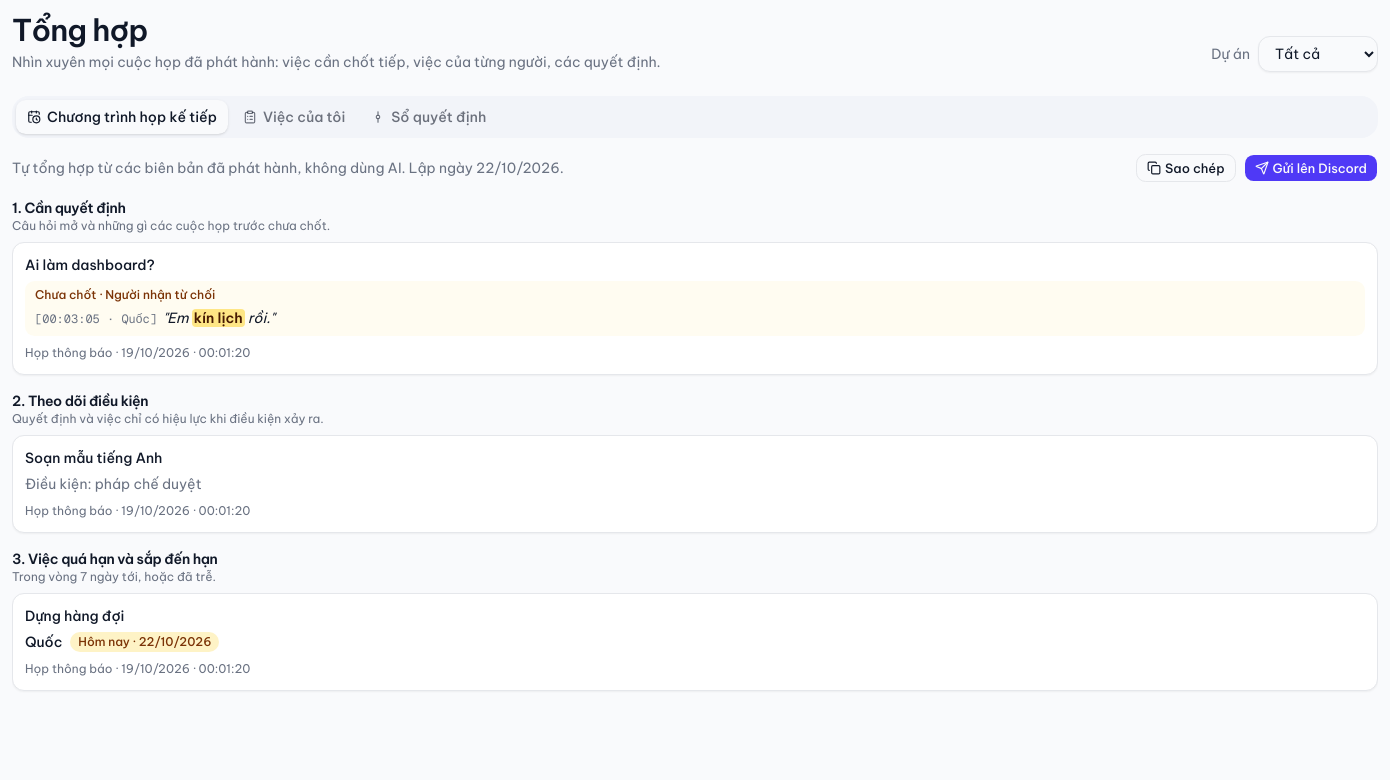
Test: agenda shows the three parts, why items are open, and can be posted to Discord
Check: the text "Ai làm dashboard?" is shown, box [25, 256, 155, 274]
Check: the text "Điều kiện: pháp chế duyệt" is shown, box [25, 475, 202, 493]
Click the button "Gửi lên Discord" at (1311, 168), box [1244, 154, 1378, 182]
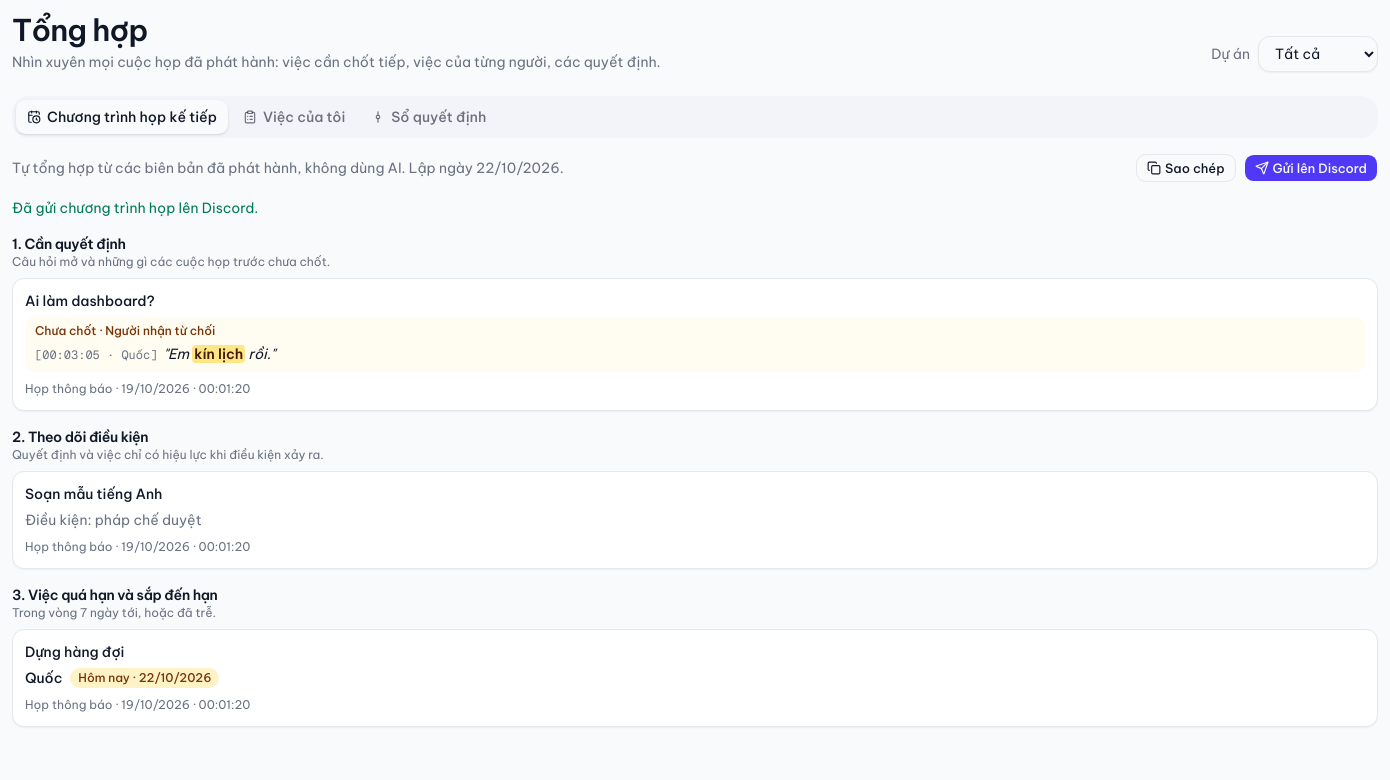
Check: the text "Đã gửi chương trình họp lên Discord." is shown, box [12, 199, 258, 217]
